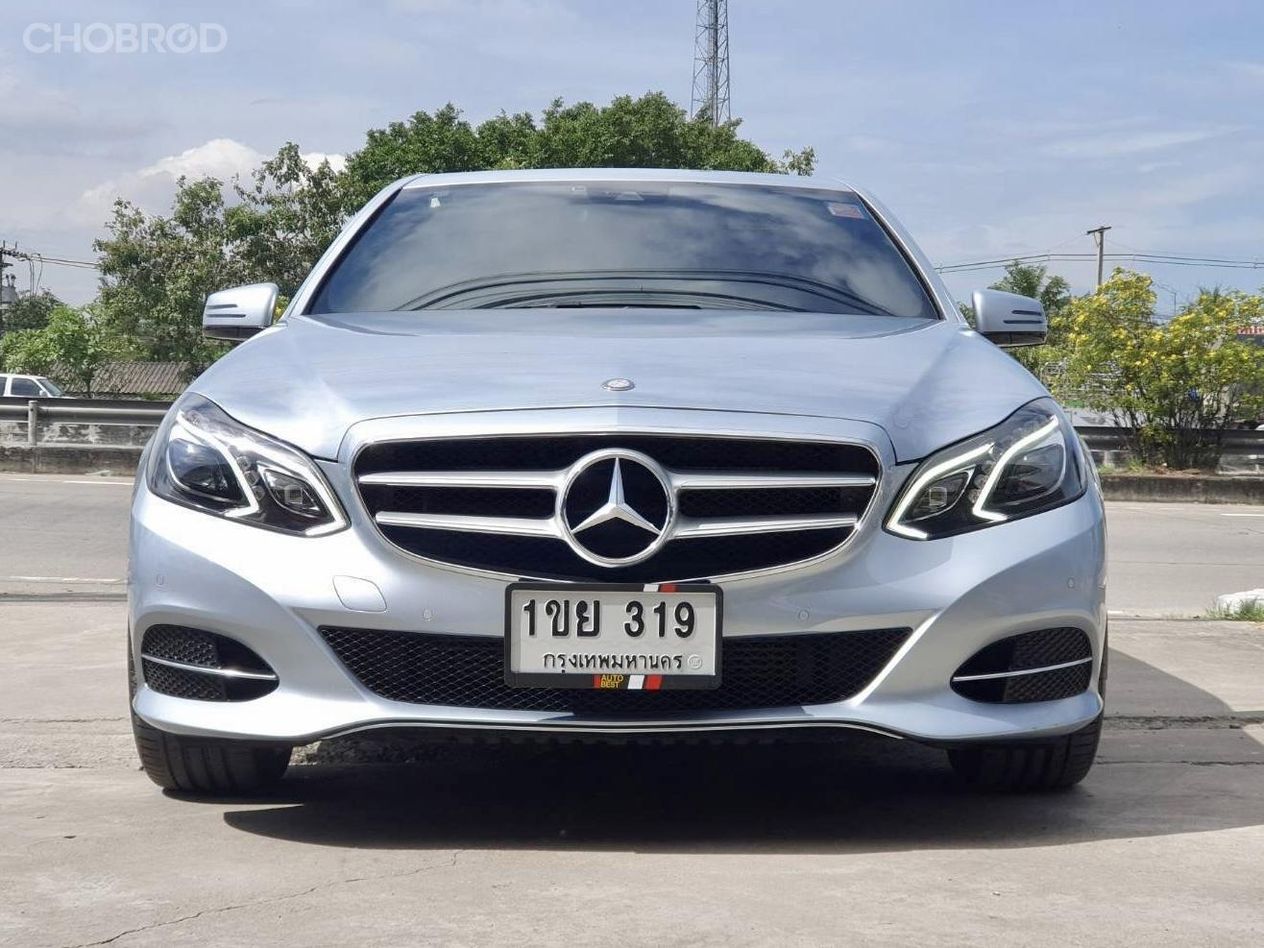license-plate: (500, 583, 721, 690)
